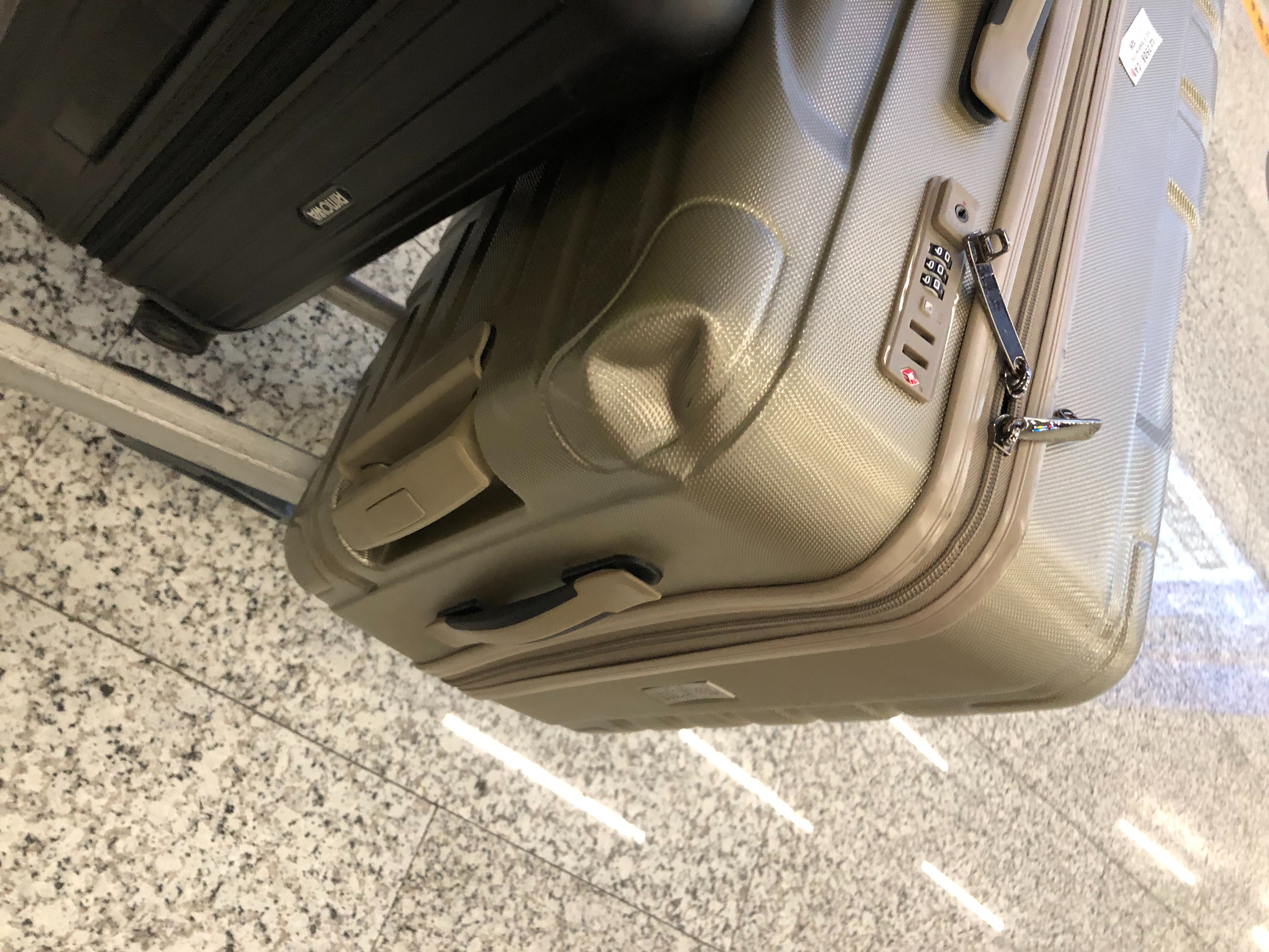rupture: (580, 304, 719, 482)
